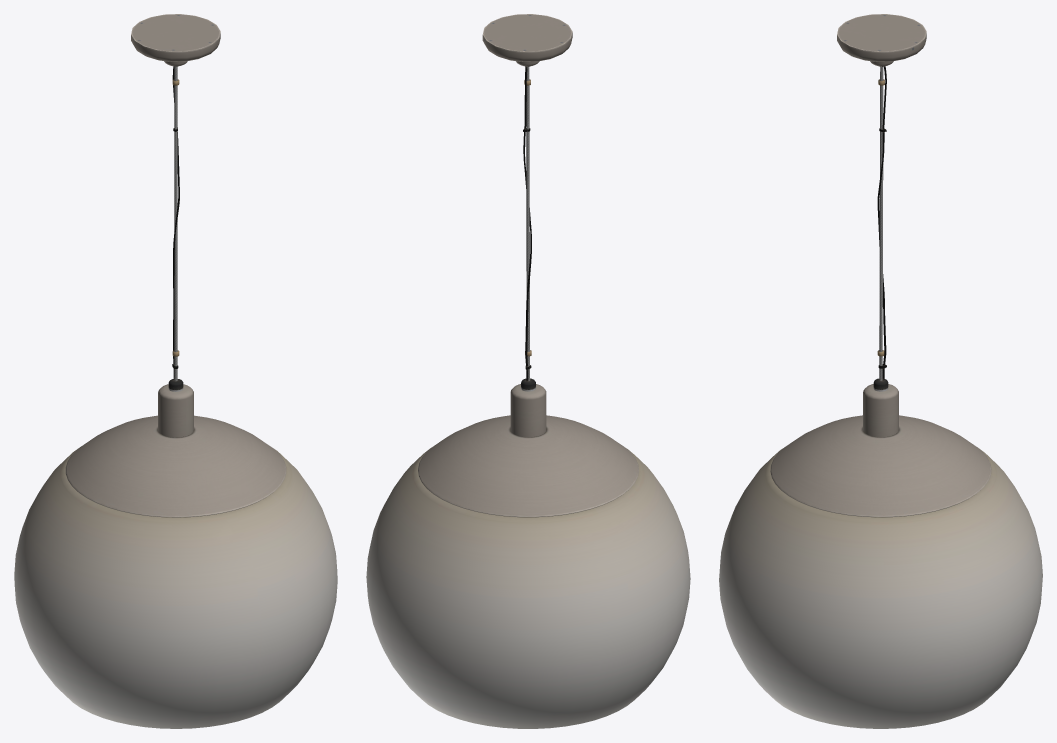
The model's file is ph_modern_ceiling_lamp_01.glb.
The picture shows the model from 3 angles, left to right: view 1: azimuth 30°, elevation 25°; view 2: azimuth 150°, elevation 25°; view 3: azimuth 270°, elevation 25°; orthographic projection.
Parts seen in each view (by area): view 1: ph_modern_ceiling_lamp_01; view 2: ph_modern_ceiling_lamp_01; view 3: ph_modern_ceiling_lamp_01.
Boxes of the visible parts, x1,y1,x2,y2 form: ph_modern_ceiling_lamp_01: (14, 14, 337, 728); ph_modern_ceiling_lamp_01: (366, 14, 690, 728); ph_modern_ceiling_lamp_01: (719, 14, 1042, 728).
Size of the model in its own units: 0.4316 by 0.9516 by 0.4317.
3 materials, 3 textured.
